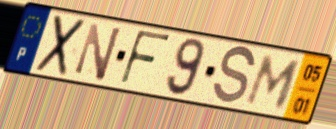9: (164, 36, 207, 98)
F: (117, 28, 174, 89)
M: (242, 52, 304, 111)
N: (72, 21, 124, 85)
S: (210, 44, 258, 107)
X: (32, 13, 90, 79)
